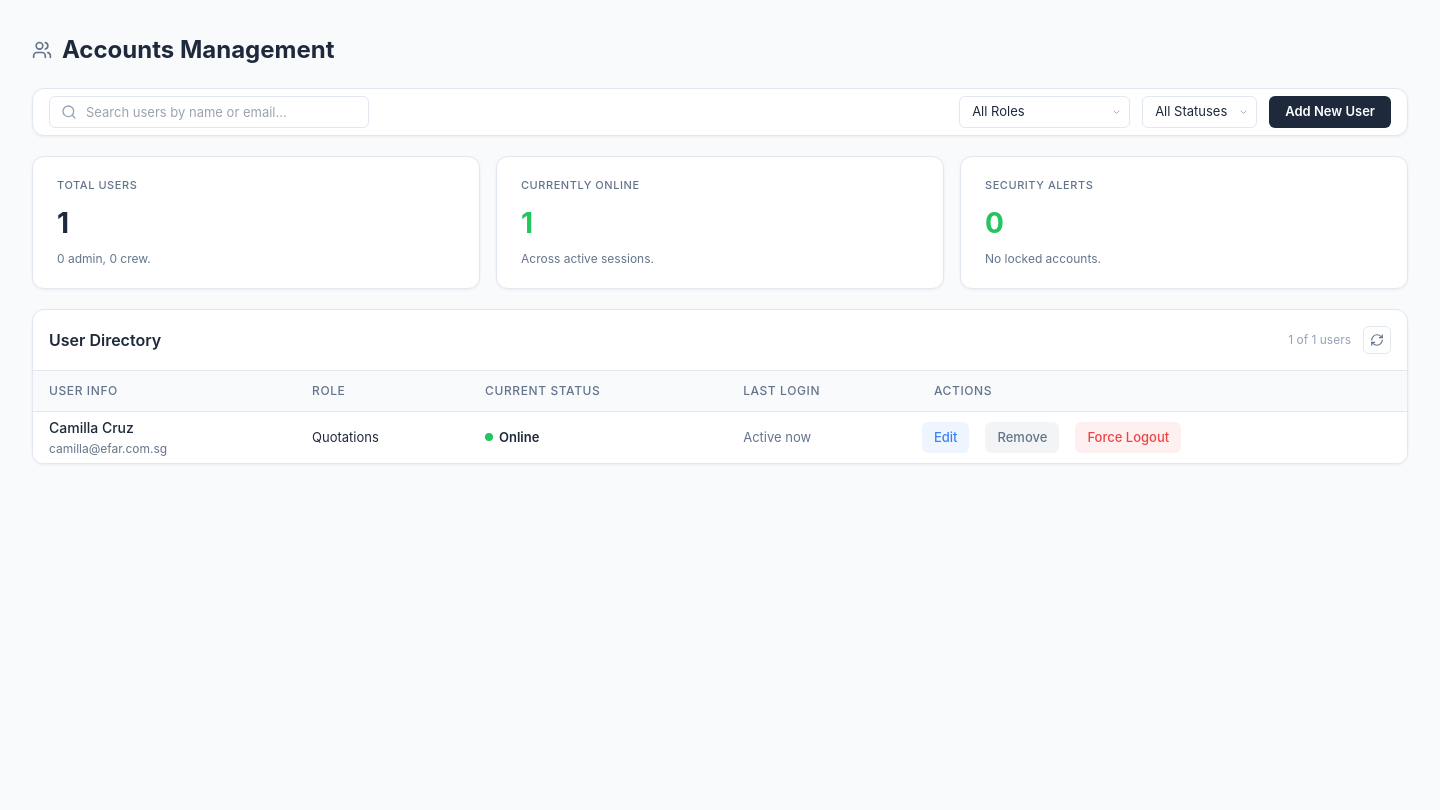
Test: Accounts Management - Add New User form › successful account creation shows a success message and refetches the directory
Check: the text "camilla@efar.com.sg" is shown, box [49,441,167,456]
Click the button "Add New User" at (1330, 112), box [1269,96,1391,128]
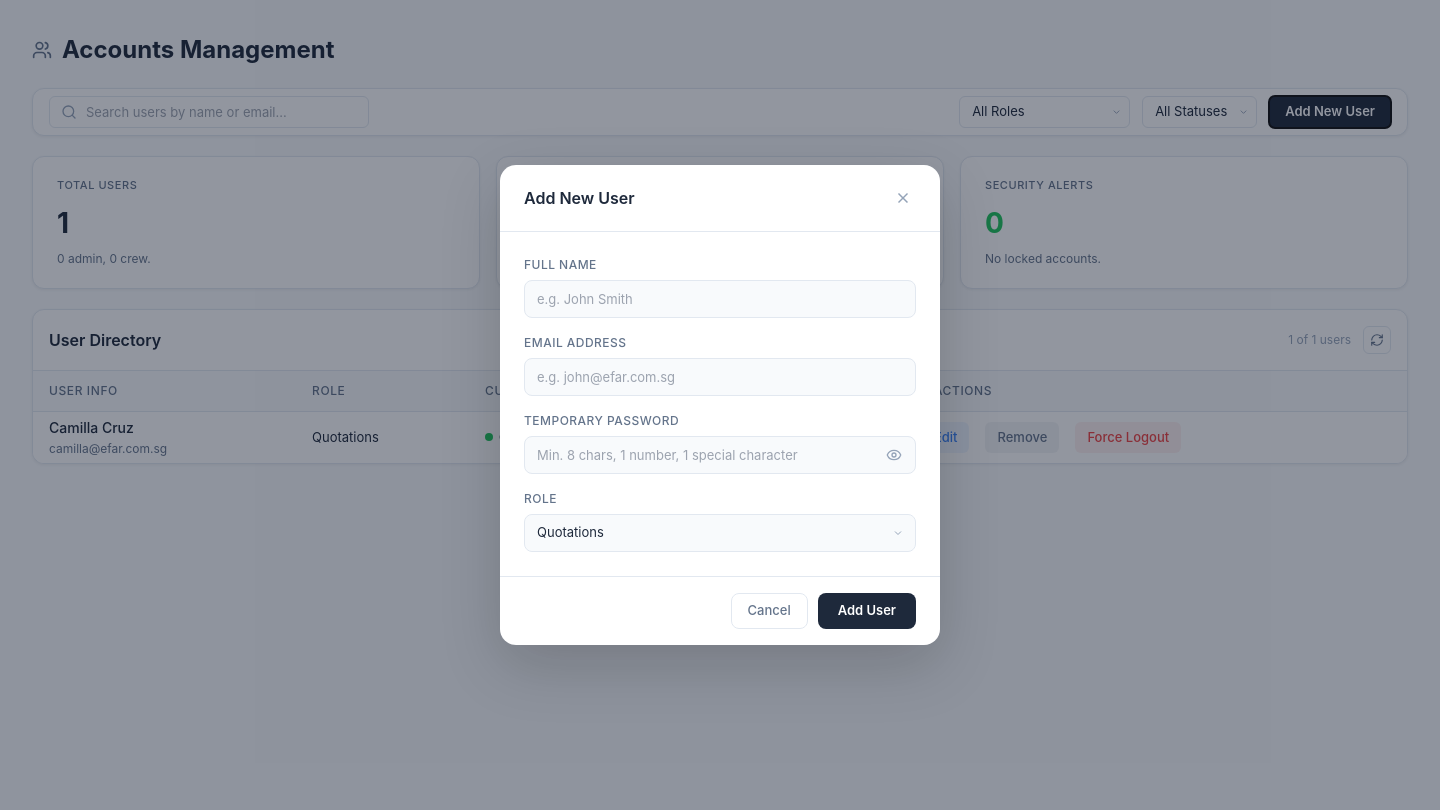
Type "Jane Doe" into the field with placeholder "e.g. John Smith" at (720, 299), box [524,280,916,318]
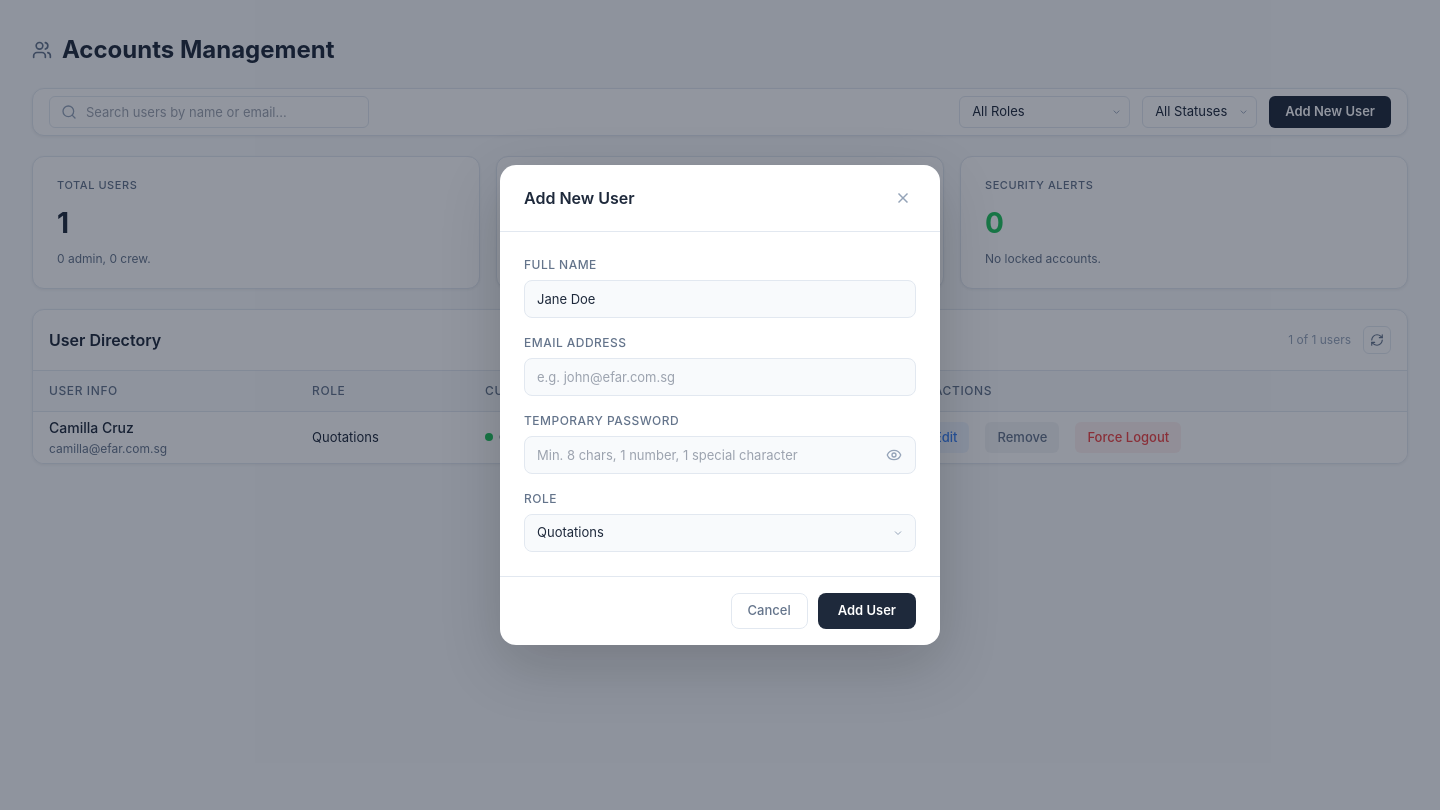
Type "jane@efar.com.sg" into the field with placeholder "e.g. john@efar.com.sg" at (720, 377), box [524,358,916,396]
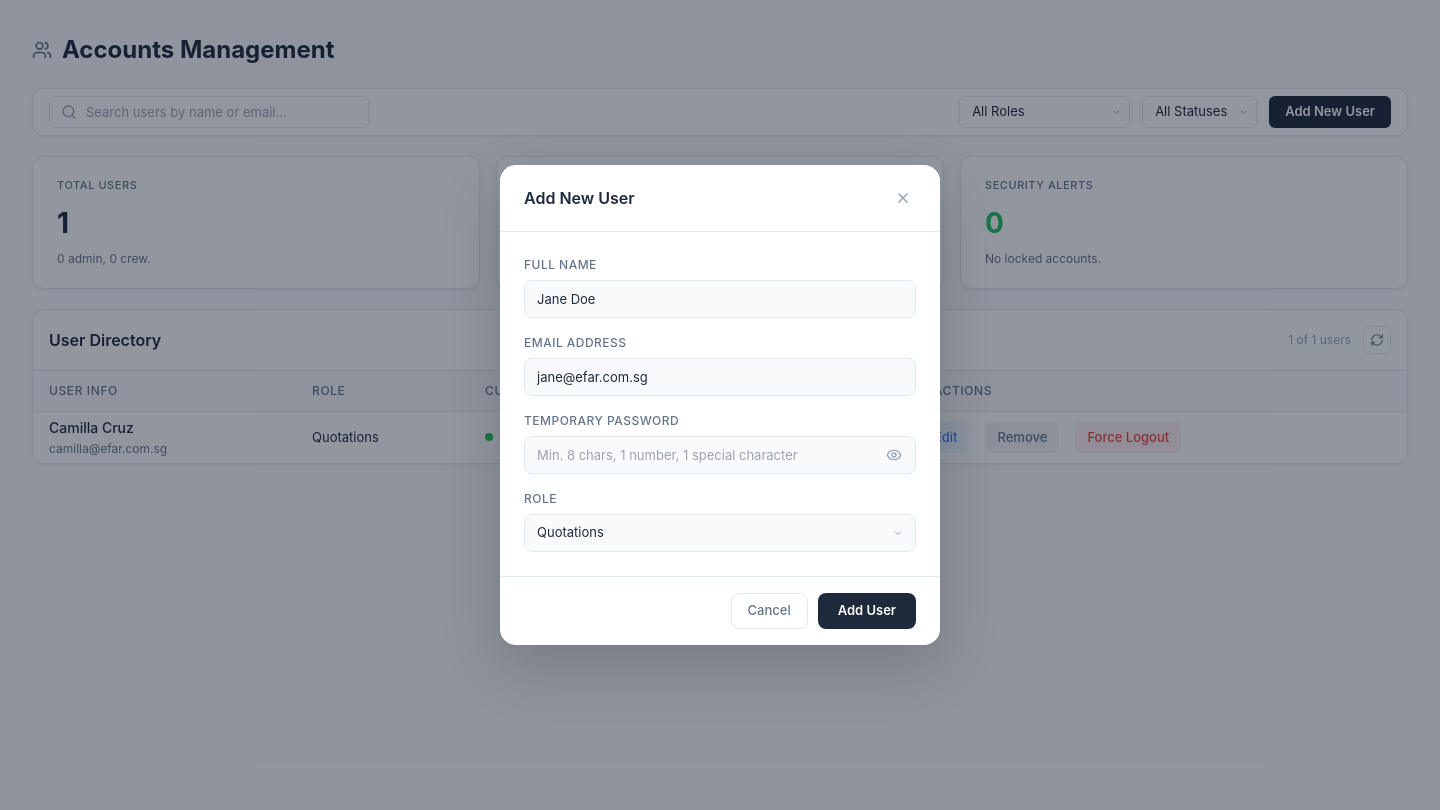
Type "Efar@2026" into the password field with placeholder "Min. 8 chars, 1 number, 1 special character" at (720, 455), box [524,436,916,474]
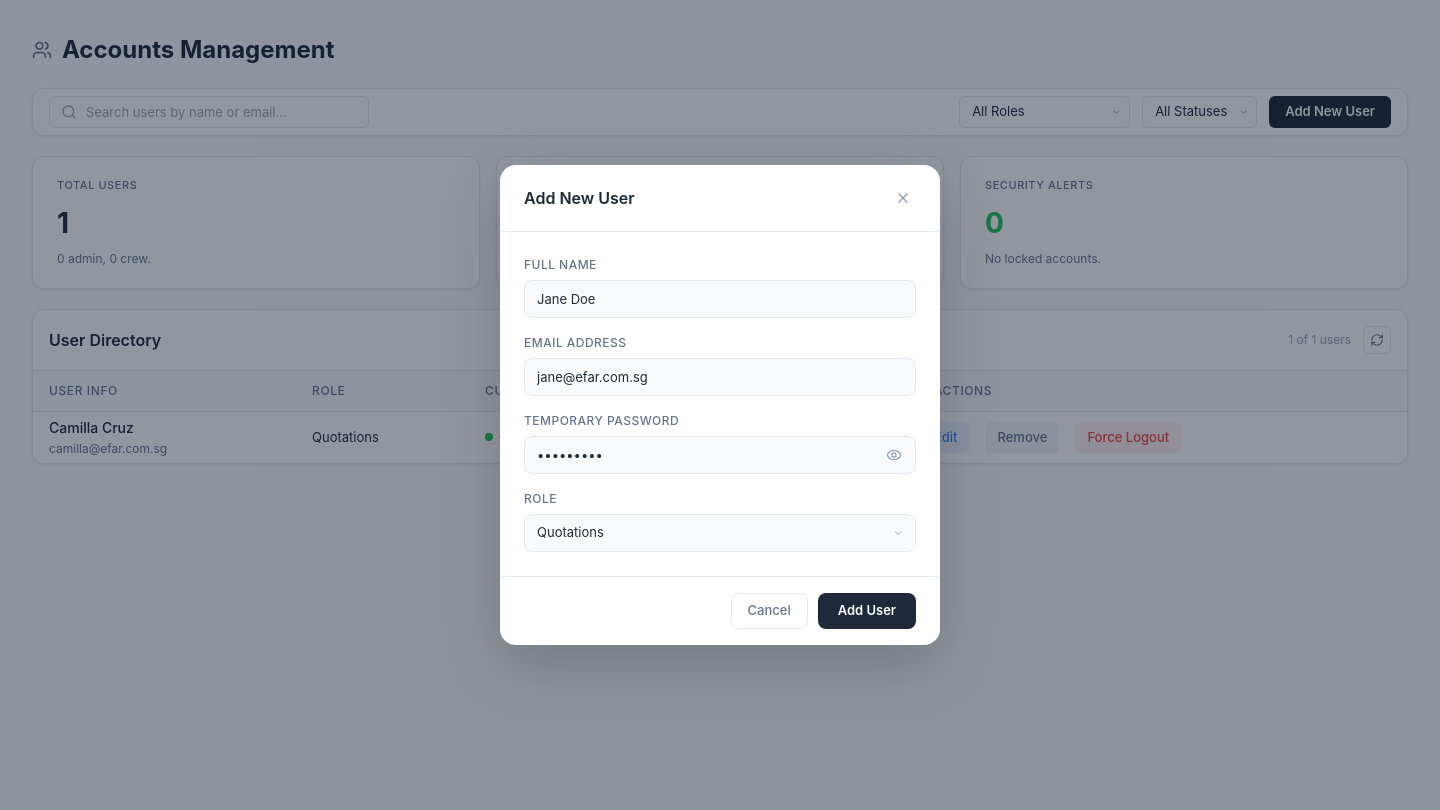
Click the button "Add User" at (867, 611), box [818,593,916,629]
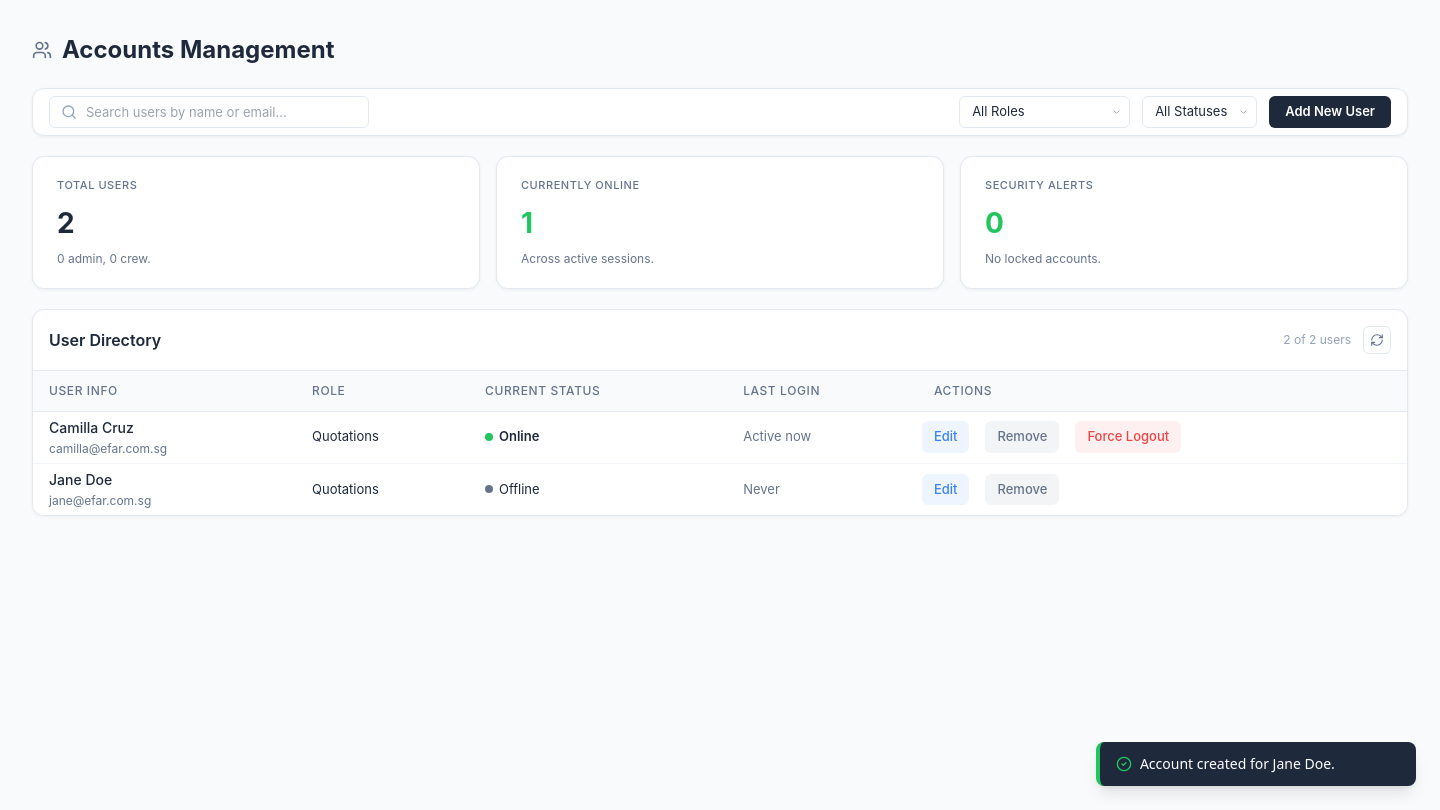
Check: the text "Account created for Jane Doe." is shown, box [1140,754,1335,773]
Check: the text "jane@efar.com.sg" is shown, box [49,493,151,508]
